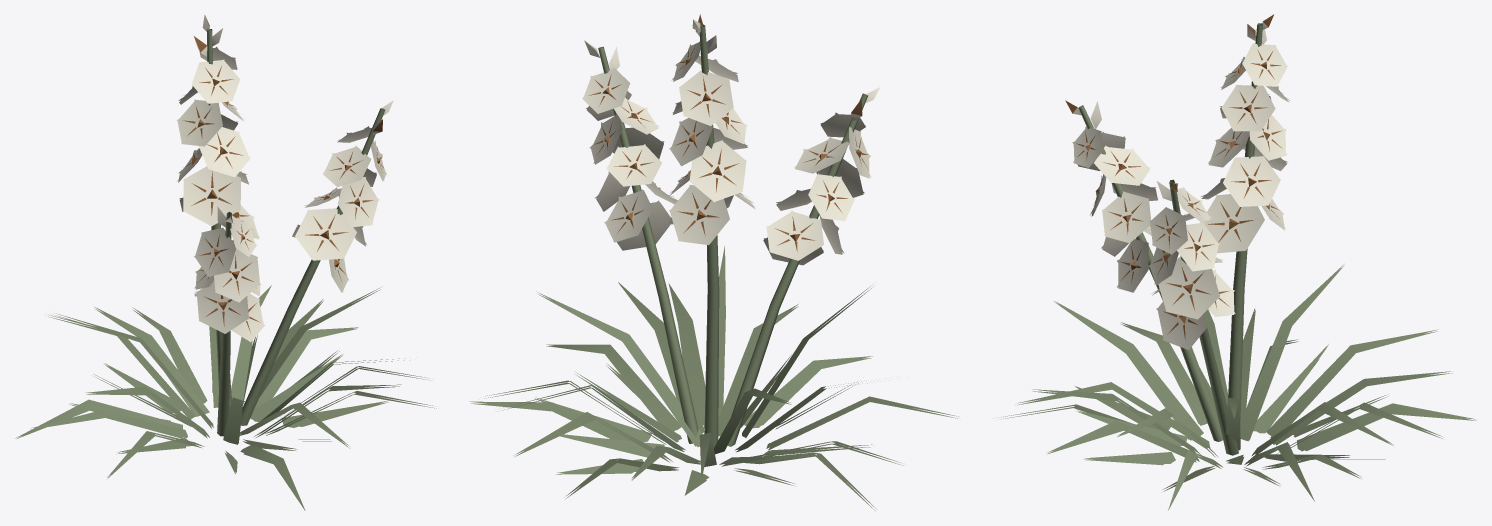
Rendered from asphodel-1.glb.
3 renders of one model, left to right at view 1: azimuth 30°, elevation 25°; view 2: azimuth 150°, elevation 25°; view 3: azimuth 270°, elevation 25°, orthographic. The views are drawn at different scales.
Visible parts, largest first — view 1: asphodel-1; view 2: asphodel-1; view 3: asphodel-1.
Boxes of the visible parts, <box> form: asphodel-1: <box>15,14,436,510</box>; asphodel-1: <box>469,14,959,511</box>; asphodel-1: <box>1001,14,1476,510</box>.
Bounding box in the file's own units: 0.7555 × 0.7875 × 0.809.
